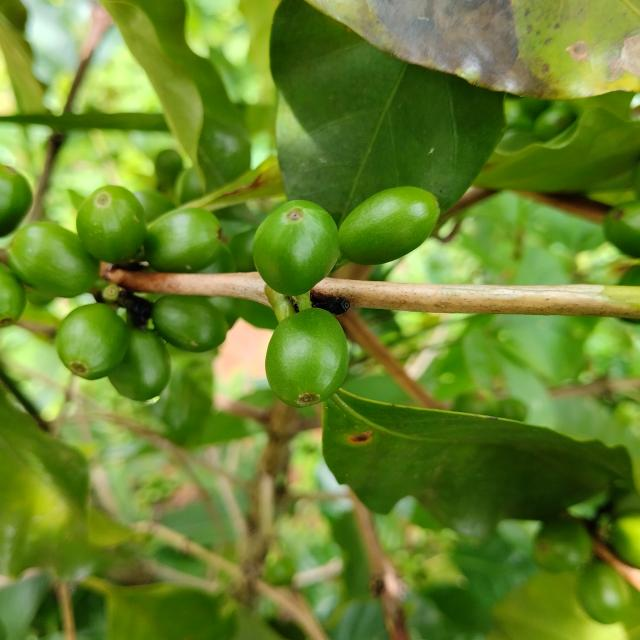green: (265, 308, 349, 408), (253, 200, 340, 296), (339, 186, 440, 265), (7, 222, 99, 297), (55, 303, 128, 380), (75, 185, 146, 263), (144, 208, 220, 273), (108, 329, 170, 402), (151, 295, 228, 352)
